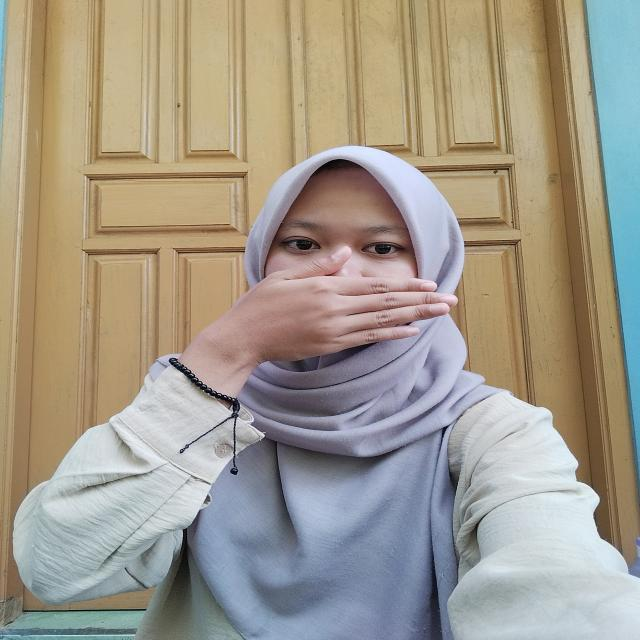buruk: (229, 232, 476, 378)
